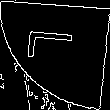L_E: (26, 37, 84, 73)
